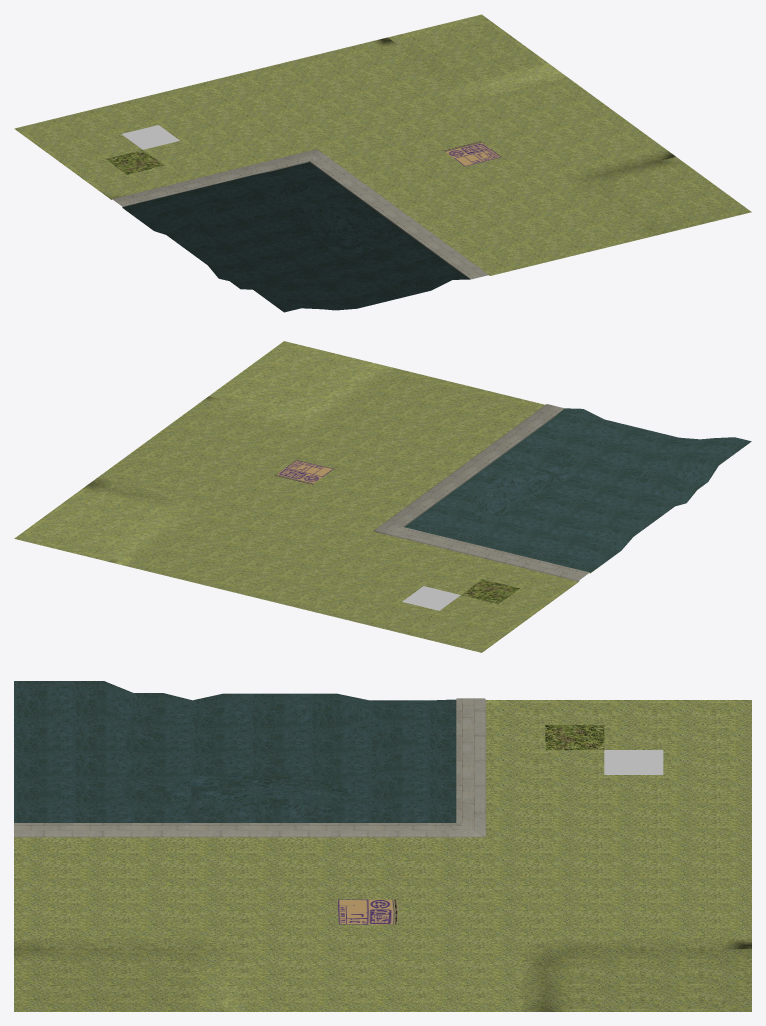
The picture shows the model from 3 angles, top to bottom: view 1: azimuth 30°, elevation 25°; view 2: azimuth 150°, elevation 25°; view 3: azimuth 270°, elevation 25°; orthographic projection. The views are drawn at different scales.
Parts seen in each view (by area): view 1: Joint_0_Object_1, Joint_0_Object_6, Joint_0_Object_2, Joint_0_Object_0, Joint_0_Object_4, Joint_0_Object_7, Joint_0_Object_5; view 2: Joint_0_Object_1, Joint_0_Object_6, Joint_0_Object_2, Joint_0_Object_0, Joint_0_Object_5, Joint_0_Object_7, Joint_0_Object_4; view 3: Joint_0_Object_1, Joint_0_Object_6, Joint_0_Object_2, Joint_0_Object_0, Joint_0_Object_4, Joint_0_Object_7, Joint_0_Object_5.
Boxes of the visible parts, bbox=[...] form: Joint_0_Object_1: bbox=[14, 51, 601, 275]; Joint_0_Object_6: bbox=[332, 14, 751, 248]; Joint_0_Object_2: bbox=[122, 162, 470, 312]; Joint_0_Object_0: bbox=[111, 149, 489, 279]; Joint_0_Object_4: bbox=[443, 141, 501, 166]; Joint_0_Object_7: bbox=[121, 125, 179, 149]; Joint_0_Object_5: bbox=[106, 150, 163, 174]; Joint_0_Object_1: bbox=[164, 377, 578, 652]; Joint_0_Object_6: bbox=[14, 341, 433, 575]; Joint_0_Object_2: bbox=[404, 408, 751, 572]; Joint_0_Object_0: bbox=[374, 404, 589, 581]; Joint_0_Object_5: bbox=[461, 579, 519, 604]; Joint_0_Object_7: bbox=[402, 586, 460, 610]; Joint_0_Object_4: bbox=[275, 460, 333, 484]; Joint_0_Object_1: bbox=[14, 700, 751, 912]; Joint_0_Object_6: bbox=[14, 911, 751, 1011]; Joint_0_Object_2: bbox=[14, 681, 456, 822]; Joint_0_Object_0: bbox=[14, 698, 485, 837]; Joint_0_Object_4: bbox=[338, 899, 397, 924]; Joint_0_Object_7: bbox=[604, 750, 663, 774]; Joint_0_Object_5: bbox=[545, 725, 604, 749].
Size of the model in its own units: 10000 by 381 by 10000.
